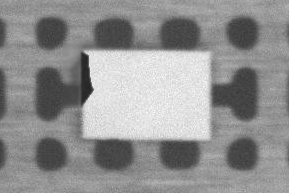DIE_BROKEN: (77, 48, 95, 107)
